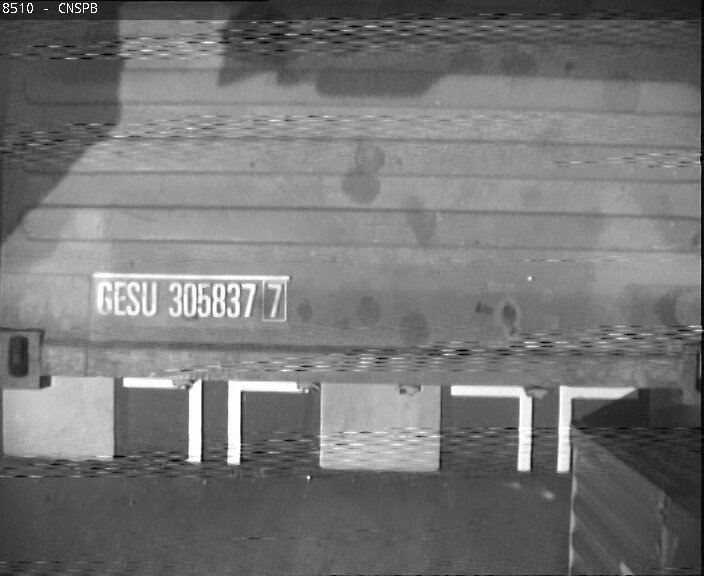groundmarker_1: (448, 386, 640, 473), (119, 380, 299, 464)
